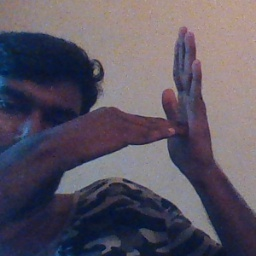Z: (117, 19, 216, 179)
